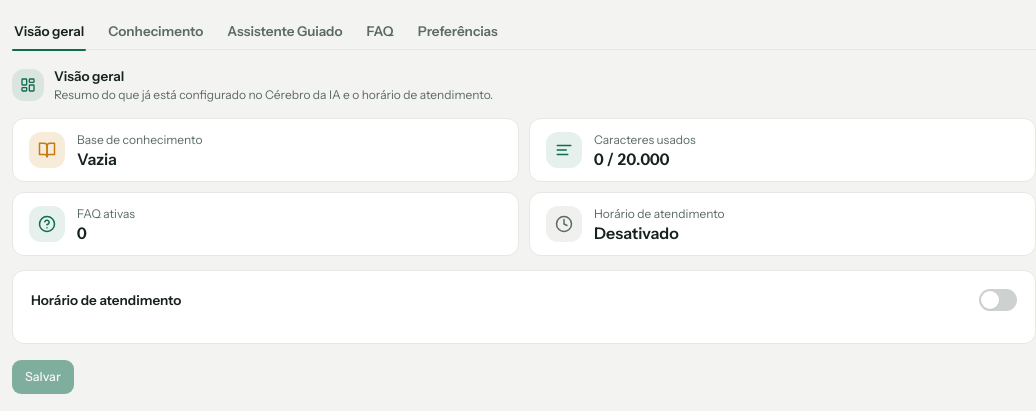
Test: AiProfilePanel (Cérebro da IA v3 — 4 abas) › troca para a aba Assistente Guiado ao clicar
This screenshot has width=1036, height=411.
Step 1. Click the tab "Assistente Guiado" → [285, 31], box [225,12,345,50]
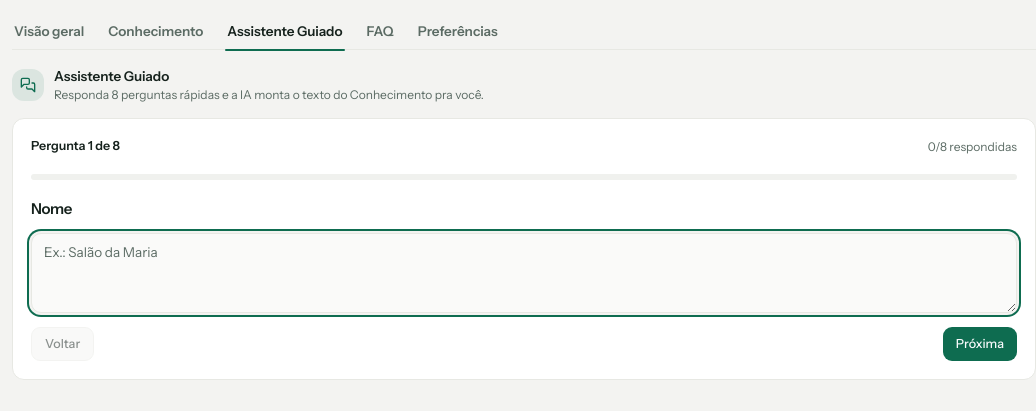
Now the text "Nome" is shown, box [31,199,72,218]
